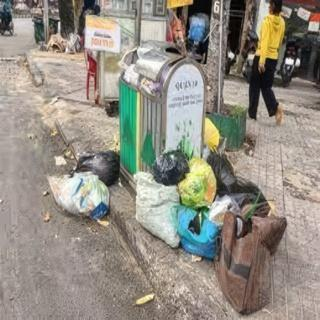Garbage: (218, 210, 285, 315), (132, 169, 180, 248), (44, 172, 110, 218), (173, 200, 216, 258), (179, 157, 215, 209), (74, 149, 121, 185), (207, 145, 238, 194), (150, 148, 191, 184)
